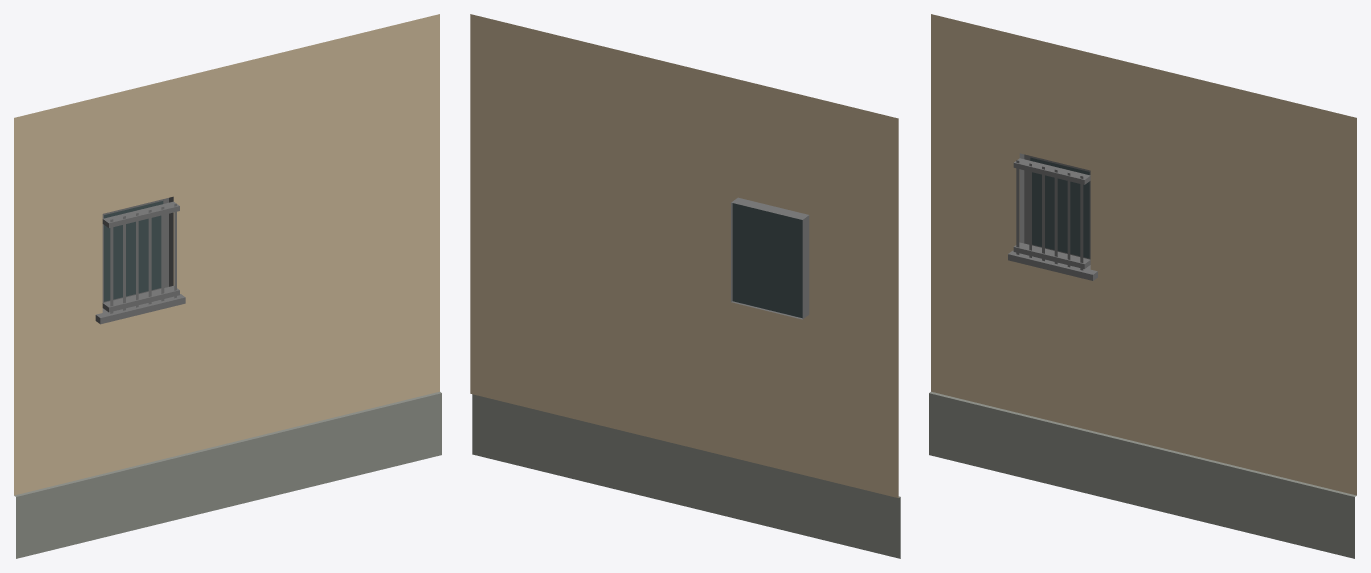
3 renders of one model, left to right at view 1: azimuth 30°, elevation 25°; view 2: azimuth 150°, elevation 25°; view 3: azimuth 330°, elevation 25°, orthographic.
Parts seen in each view (by area): view 1: a2000/400/base-w2; view 2: a2000/400/base-w2; view 3: a2000/400/base-w2.
Boxes of the visible parts, x1,y1,x2,y2 form: a2000/400/base-w2: (14, 14, 441, 558); a2000/400/base-w2: (470, 14, 900, 558); a2000/400/base-w2: (929, 14, 1356, 558).
Size of the model in its own units: 3.6 by 3.55 by 0.19.
